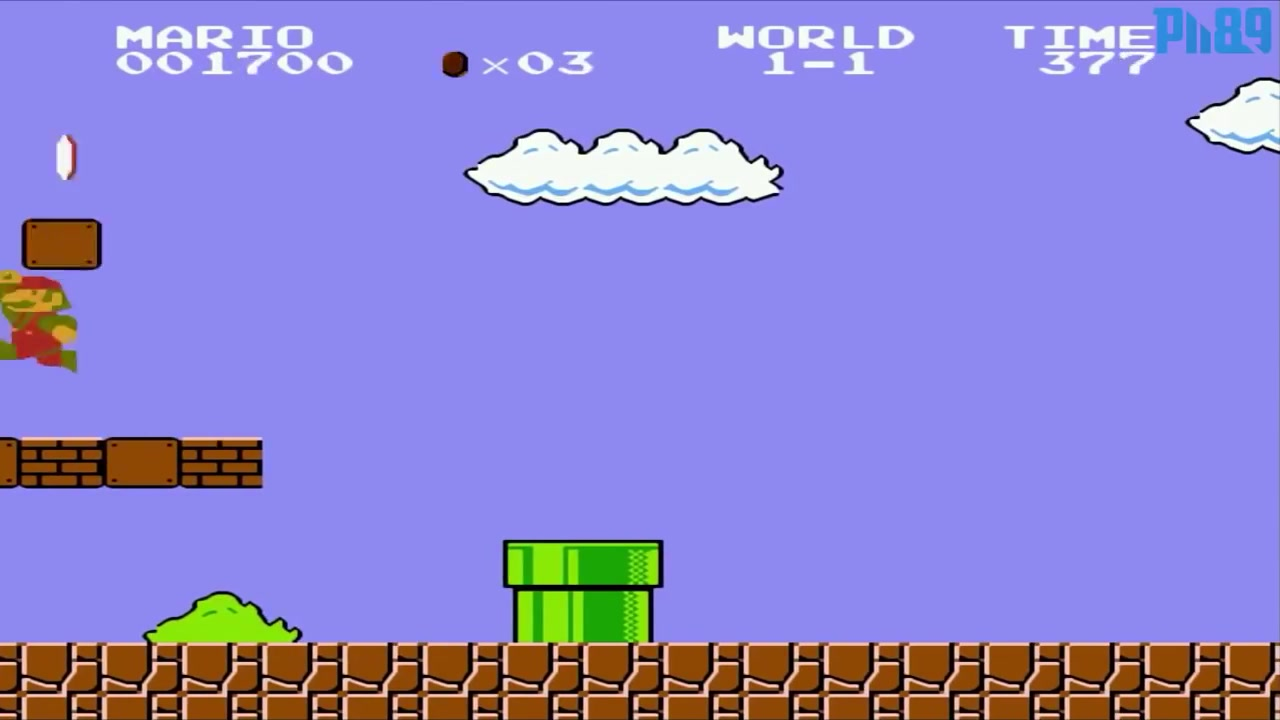mario: (2, 269, 82, 378)
